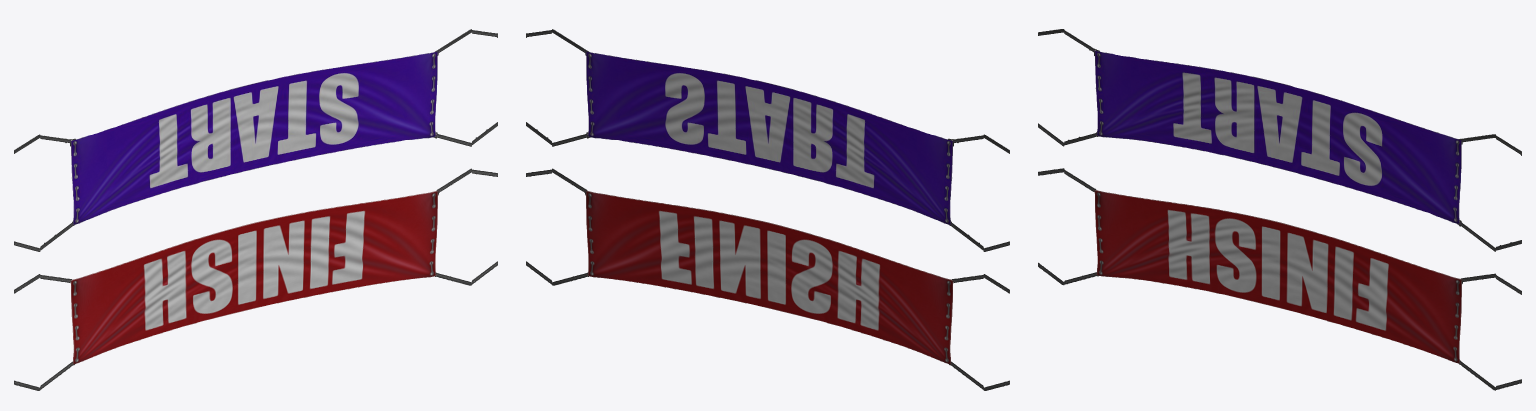
Rendered from start finish.FBX.
The picture shows the model from 3 angles, left to right: view 1: azimuth 30°, elevation 25°; view 2: azimuth 150°, elevation 25°; view 3: azimuth 330°, elevation 25°; orthographic projection.
Parts seen in each view (by area): view 1: finish, start; view 2: finish, start; view 3: finish, start.
Part boxes in pixels (bbox=[...]): finish: bbox=[14, 168, 497, 390]; start: bbox=[14, 29, 497, 251]; finish: bbox=[526, 168, 1009, 390]; start: bbox=[526, 29, 1009, 251]; finish: bbox=[1038, 168, 1521, 390]; start: bbox=[1038, 29, 1521, 251].
Bounding box in the file's own units: 286 × 0.26 × 149.
Materials: 1 (1 with a texture image).
